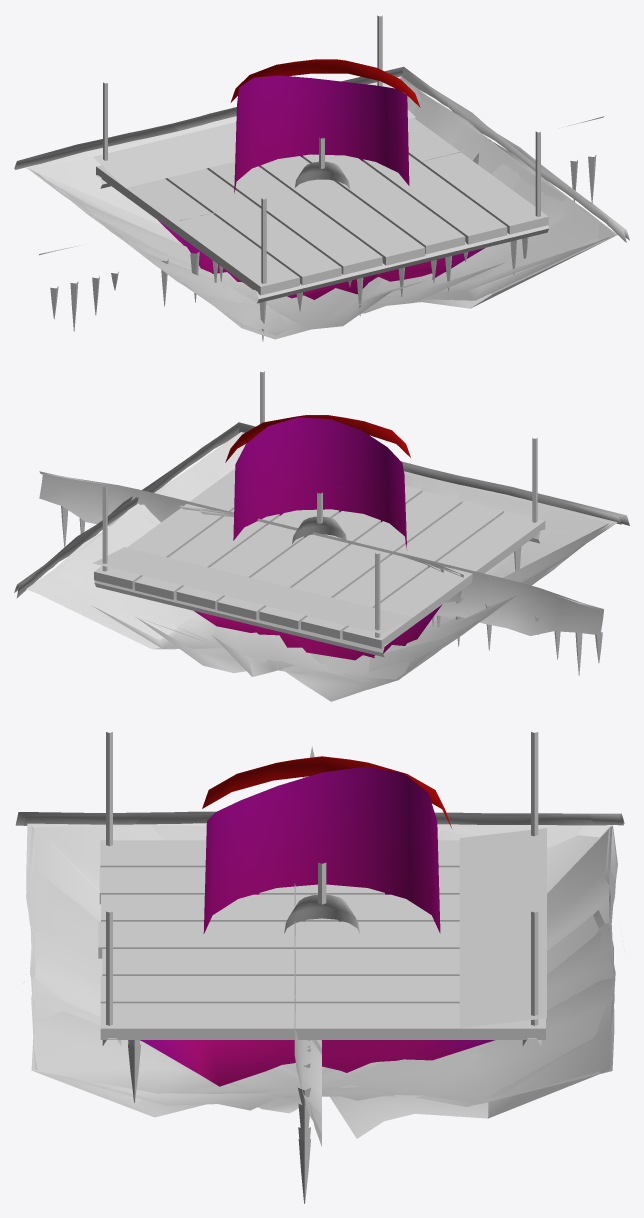
Rendered from props.glb.
The picture shows the model from 3 angles, top to bottom: view 1: azimuth 30°, elevation 25°; view 2: azimuth 150°, elevation 25°; view 3: azimuth 270°, elevation 25°; orthographic projection. The views are drawn at different scales.
Parts seen in each view (by area): view 1: wood_lift_a, wood_lift_b, stone_cut, ice_floe2, ice_floe4, ice_floe1, snow_lift_a, ice_floe3, snow_cut, snow_floe2, rope_lift_a, snow_floe4 (+7 smaller); view 2: wood_lift_a, wood_lift_b, stone_cut, ice_ice_a1, ice_floe1, ice_floe4, ice_floe3, snow_lift_a, ice_floe2, snow_floe4, rope_lift_a, rock_corn_1 (+6 smaller); view 3: wood_lift_a, stone_cut, wood_lift_b, ice_floe2, ice_floe4, ice_floe1, snow_lift_a, ice_floe3, rock_corn_1, rope_lift_a, snow_cut, ice_ice_a1 (+6 smaller).
Boxes of the visible parts, box(x1,y1,x2,y2) form: wood_lift_a: box(96, 118, 549, 301); wood_lift_b: box(96, 118, 547, 303); stone_cut: box(234, 75, 409, 193); ice_floe2: box(28, 77, 614, 339); ice_floe4: box(27, 76, 616, 331); ice_floe1: box(26, 78, 616, 328); snow_lift_a: box(93, 86, 415, 187); ice_floe3: box(28, 76, 617, 335); snow_cut: box(230, 59, 420, 107); snow_floe2: box(15, 68, 626, 242); rope_lift_a: box(103, 15, 540, 283); snow_floe4: box(16, 67, 628, 238); wood_lift_a: box(94, 468, 545, 654); wood_lift_b: box(95, 469, 543, 657); stone_cut: box(233, 417, 407, 550); ice_ice_a1: box(39, 474, 603, 675); ice_floe1: box(31, 432, 609, 681); ice_floe4: box(26, 432, 608, 679); ice_floe3: box(26, 432, 613, 701); snow_lift_a: box(92, 547, 412, 633); ice_floe2: box(28, 433, 617, 689); snow_floe4: box(14, 422, 620, 592); rope_lift_a: box(102, 371, 537, 637); rock_corn_1: box(245, 605, 441, 660); wood_lift_a: box(98, 840, 545, 1046); stone_cut: box(203, 766, 440, 933); wood_lift_b: box(98, 840, 541, 1042); ice_floe2: box(26, 823, 613, 1138); ice_floe4: box(30, 823, 616, 1104); ice_floe1: box(27, 823, 617, 1103); snow_lift_a: box(459, 828, 546, 1027); ice_floe3: box(26, 823, 615, 1117); rock_corn_1: box(140, 1040, 484, 1086); rope_lift_a: box(106, 732, 538, 1025); snow_cut: box(202, 756, 451, 828); ice_ice_a1: box(294, 746, 321, 1203).
Bounding box in the file's own units: 7 × 2.51 × 4.93.
